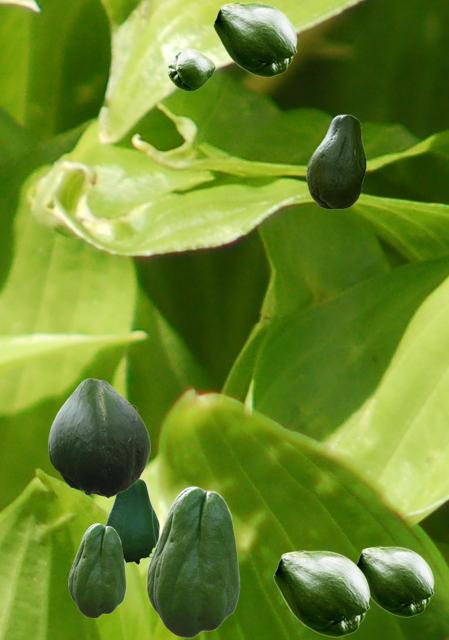sayote: (146, 486, 239, 637), (48, 378, 149, 497), (273, 550, 369, 636), (213, 2, 296, 76), (306, 114, 365, 208), (356, 546, 433, 616), (68, 523, 125, 617), (105, 478, 160, 565), (167, 48, 214, 90)
